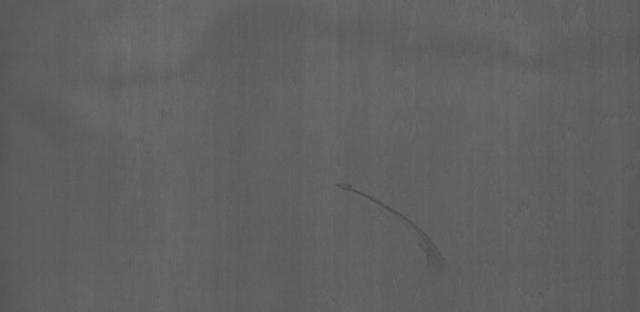water_spot: (336, 159, 465, 284)
